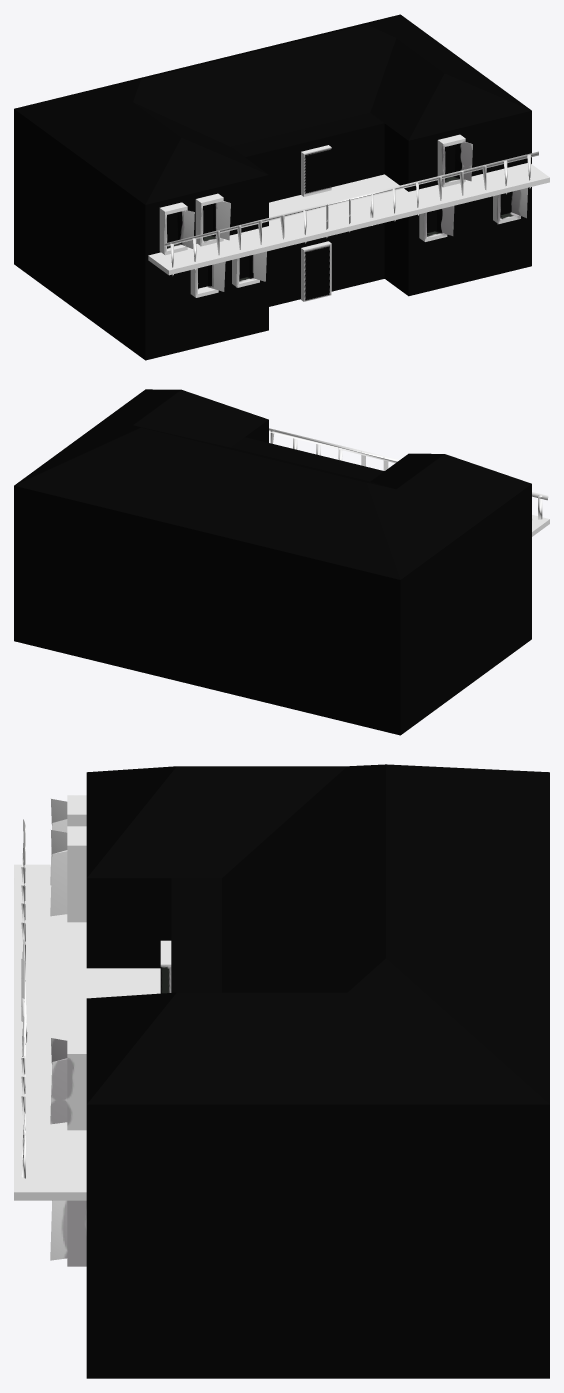
The model's file is HouseA.fbx.
3 views of the same model, one above another, from view 1: azimuth 30°, elevation 25°; view 2: azimuth 150°, elevation 25°; view 3: azimuth 270°, elevation 25° (orthographic). The views are drawn at different scales.
Visible parts, largest first — view 1: node_id77 (×2); view 2: node_id77 (×2); view 3: node_id77 (×2).
Part boxes in pixels (bbox=[...]): node_id77 (×2): bbox=[14, 14, 549, 360]; node_id77 (×2): bbox=[14, 389, 549, 735]; node_id77 (×2): bbox=[14, 764, 549, 1378].
Size of the model in its own units: 0.4299 by 0.2124 by 0.2931.
Materials: 2 (2 with a texture image).
